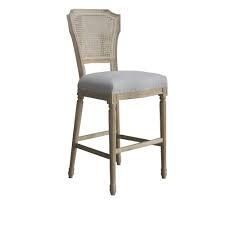chair: (63, 7, 170, 197)
